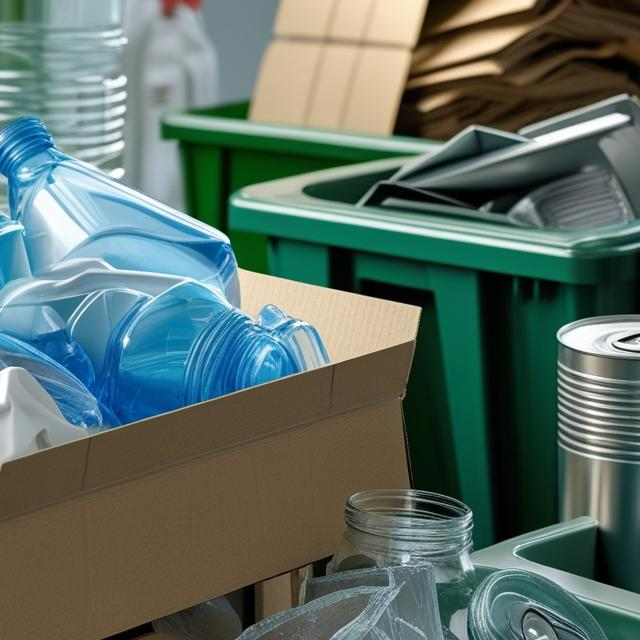plastic: (0, 0, 147, 186), (0, 313, 97, 476)
